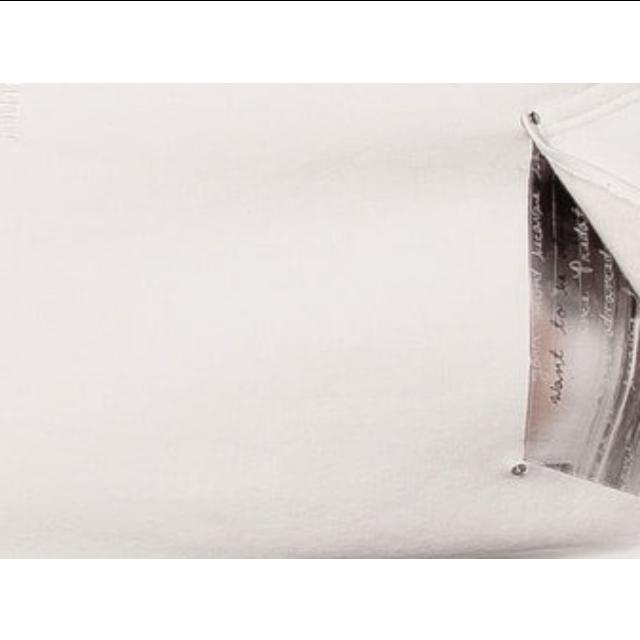polyester: (0, 82, 640, 558)
